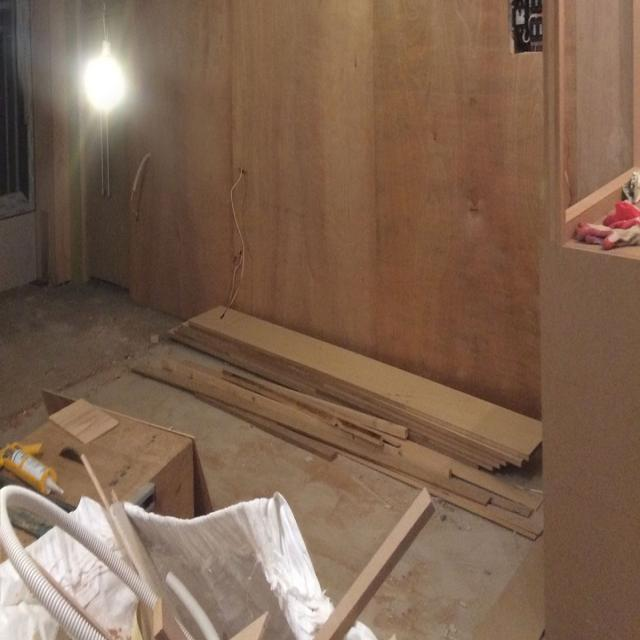board: (188, 305, 542, 460), (181, 321, 524, 468), (178, 326, 510, 468), (173, 328, 496, 471), (167, 328, 482, 469)
wood: (312, 486, 436, 640)
